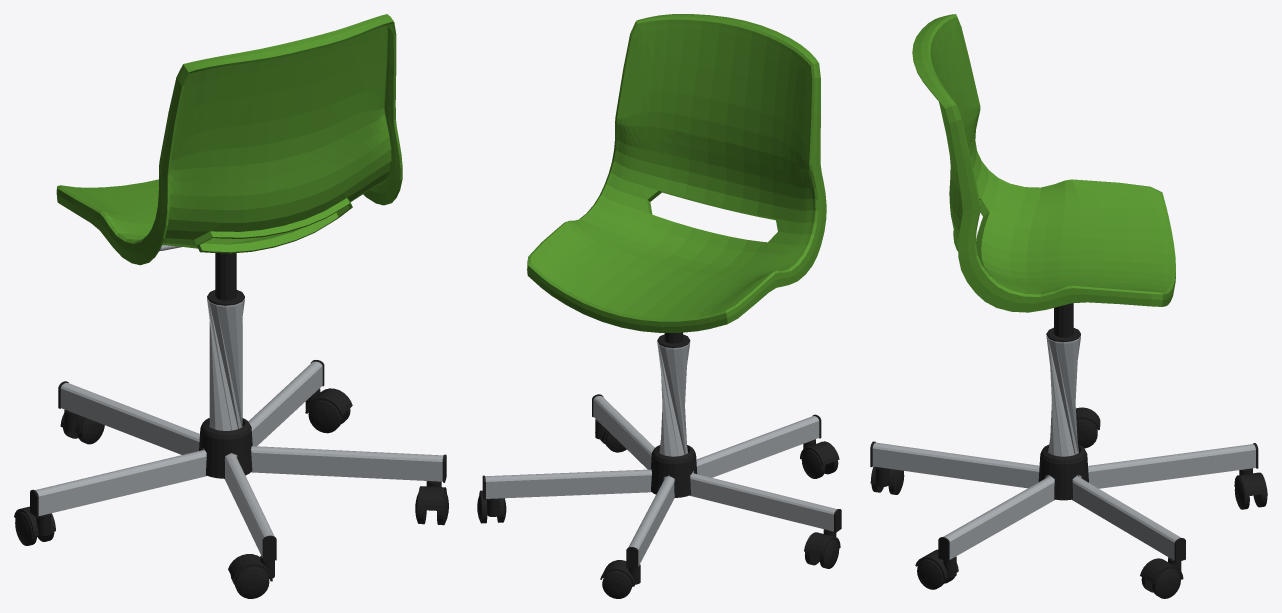
3 views of the same model, side by side, from view 1: azimuth 30°, elevation 25°; view 2: azimuth 150°, elevation 25°; view 3: azimuth 270°, elevation 25° (orthographic). The views are drawn at different scales.
Visible parts, largest first — view 1: Mesh2 Group2 SNILLE_IKEA1 Model, Mesh8 Group6 SNILLE_IKEA1 Model, Mesh7 Group5 SNILLE_IKEA1 Model, Mesh1 Group1 SNILLE_IKEA1 Model, Mesh3 Group3 SNILLE_IKEA1 Model, Mesh11 ROULETTE1 SNILLE_IKEA1 Model, Mesh13 ROULETTE2 SNILLE_IKEA1 Model, Mesh18 ROULETTE4 SNILLE_IKEA1 Model, Mesh9 ROULETTE1 SNILLE_IKEA1 Model, Mesh12 ROULETTE2 SNILLE_IKEA1 Model, Mesh21 ROULETTE5 SNILLE_IKEA1 Model; view 2: Mesh2 Group2 SNILLE_IKEA1 Model, Mesh8 Group6 SNILLE_IKEA1 Model, Mesh7 Group5 SNILLE_IKEA1 Model, Mesh1 Group1 SNILLE_IKEA1 Model, Mesh17 ROULETTE3 SNILLE_IKEA1 Model, Mesh21 ROULETTE5 SNILLE_IKEA1 Model, Mesh9 ROULETTE1 SNILLE_IKEA1 Model, Mesh10 ROULETTE1 SNILLE_IKEA1 Model; view 3: Mesh2 Group2 SNILLE_IKEA1 Model, Mesh8 Group6 SNILLE_IKEA1 Model, Mesh7 Group5 SNILLE_IKEA1 Model, Mesh1 Group1 SNILLE_IKEA1 Model, Mesh3 Group3 SNILLE_IKEA1 Model, Mesh14 ROULETTE2 SNILLE_IKEA1 Model, Mesh20 ROULETTE4 SNILLE_IKEA1 Model, Mesh15 ROULETTE3 SNILLE_IKEA1 Model, Mesh12 ROULETTE2 SNILLE_IKEA1 Model.
Part boxes in pixels (bbox=[...]): Mesh2 Group2 SNILLE_IKEA1 Model: bbox=[56, 14, 402, 265]; Mesh8 Group6 SNILLE_IKEA1 Model: bbox=[30, 360, 446, 561]; Mesh7 Group5 SNILLE_IKEA1 Model: bbox=[207, 298, 244, 430]; Mesh1 Group1 SNILLE_IKEA1 Model: bbox=[199, 418, 252, 478]; Mesh3 Group3 SNILLE_IKEA1 Model: bbox=[207, 253, 244, 305]; Mesh11 ROULETTE1 SNILLE_IKEA1 Model: bbox=[234, 566, 269, 598]; Mesh13 ROULETTE2 SNILLE_IKEA1 Model: bbox=[308, 400, 342, 433]; Mesh18 ROULETTE4 SNILLE_IKEA1 Model: bbox=[417, 481, 446, 510]; Mesh9 ROULETTE1 SNILLE_IKEA1 Model: bbox=[228, 554, 274, 581]; Mesh12 ROULETTE2 SNILLE_IKEA1 Model: bbox=[305, 388, 352, 415]; Mesh21 ROULETTE5 SNILLE_IKEA1 Model: bbox=[14, 506, 55, 536]; Mesh2 Group2 SNILLE_IKEA1 Model: bbox=[527, 14, 826, 332]; Mesh8 Group6 SNILLE_IKEA1 Model: bbox=[482, 394, 841, 569]; Mesh7 Group5 SNILLE_IKEA1 Model: bbox=[657, 342, 690, 456]; Mesh1 Group1 SNILLE_IKEA1 Model: bbox=[650, 445, 697, 497]; Mesh17 ROULETTE3 SNILLE_IKEA1 Model: bbox=[602, 570, 632, 598]; Mesh21 ROULETTE5 SNILLE_IKEA1 Model: bbox=[804, 529, 840, 556]; Mesh9 ROULETTE1 SNILLE_IKEA1 Model: bbox=[800, 439, 839, 465]; Mesh10 ROULETTE1 SNILLE_IKEA1 Model: bbox=[801, 449, 825, 478]; Mesh2 Group2 SNILLE_IKEA1 Model: bbox=[912, 14, 1175, 312]; Mesh8 Group6 SNILLE_IKEA1 Model: bbox=[870, 441, 1258, 562]; Mesh7 Group5 SNILLE_IKEA1 Model: bbox=[1046, 335, 1080, 456]; Mesh1 Group1 SNILLE_IKEA1 Model: bbox=[1038, 444, 1088, 500]; Mesh3 Group3 SNILLE_IKEA1 Model: bbox=[1046, 303, 1080, 342]; Mesh14 ROULETTE2 SNILLE_IKEA1 Model: bbox=[1152, 568, 1180, 598]; Mesh20 ROULETTE4 SNILLE_IKEA1 Model: bbox=[917, 559, 945, 589]; Mesh15 ROULETTE3 SNILLE_IKEA1 Model: bbox=[1234, 468, 1267, 496]; Mesh12 ROULETTE2 SNILLE_IKEA1 Model: bbox=[1140, 557, 1183, 583].
Bounding box in the file's own units: 0.5863 × 0.7851 × 0.5953.
